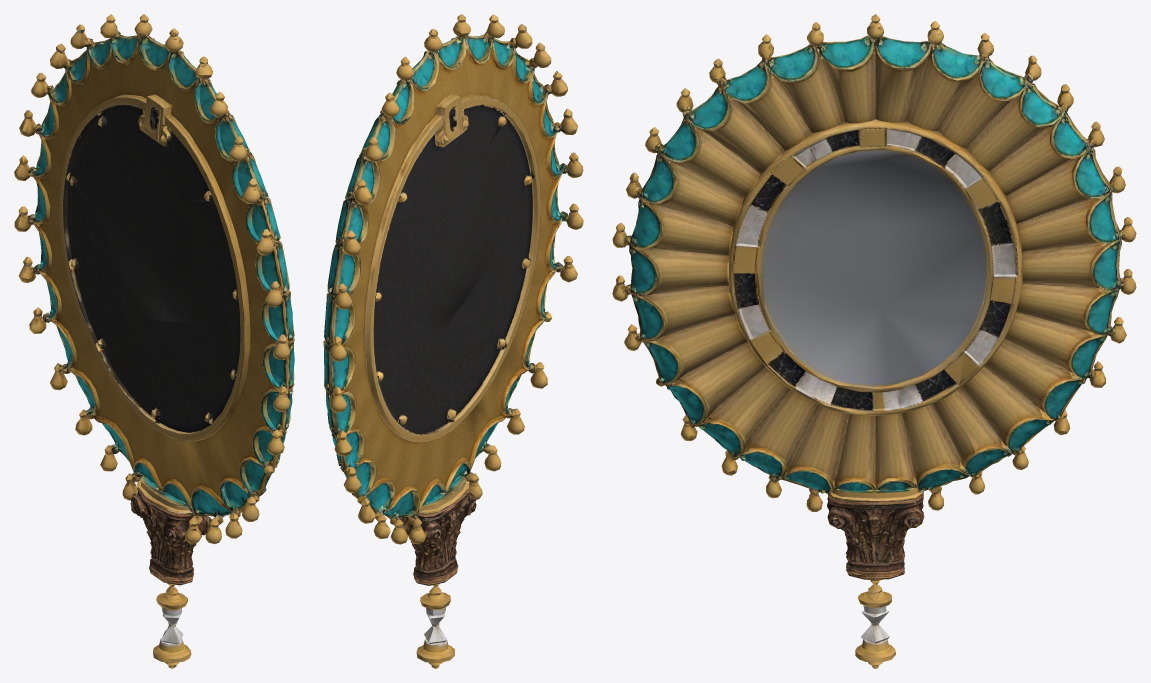
Rendered from TH-06_wall_mirror_game.glb.
The picture shows the model from 3 angles, left to right: view 1: azimuth 30°, elevation 25°; view 2: azimuth 150°, elevation 25°; view 3: azimuth 270°, elevation 25°; orthographic projection. The views are drawn at different scales.
Parts seen in each view (by area): view 1: TH-06_wall_mirror; view 2: TH-06_wall_mirror; view 3: TH-06_wall_mirror.
Part boxes in pixels (left/top/right/bottom): TH-06_wall_mirror: left=14, top=14, right=294, bottom=668; TH-06_wall_mirror: left=323, top=14, right=583, bottom=668; TH-06_wall_mirror: left=612, top=14, right=1136, bottom=668.
Size of the model in its own units: 0.1001 by 1.1 by 0.7976.
Materials: 1 (1 with a texture image).
